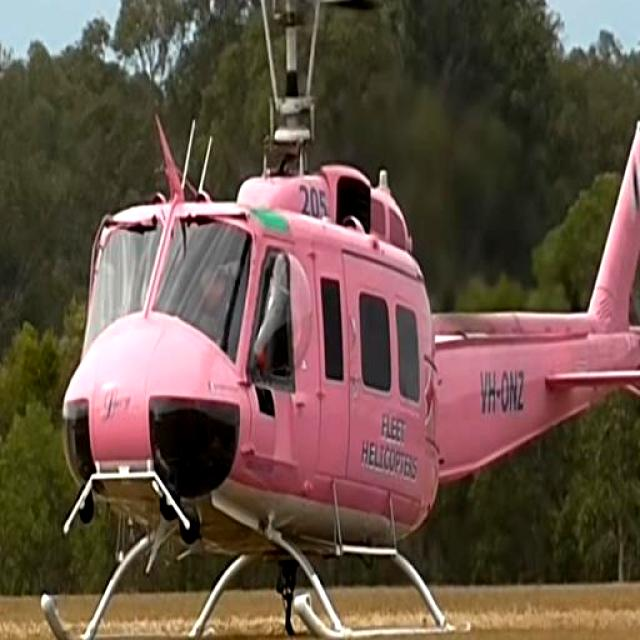drone: (35, 0, 640, 640)
